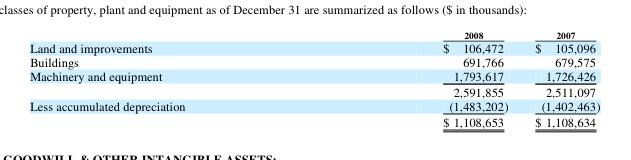table: (29, 29, 599, 128)
table column: (29, 29, 313, 128), (313, 29, 520, 128), (520, 29, 599, 128)
table column header: (29, 29, 599, 40)
table row: (29, 68, 599, 83), (29, 83, 599, 98), (29, 98, 599, 113), (29, 113, 599, 128), (29, 40, 599, 54), (29, 54, 599, 68), (29, 29, 599, 40)
